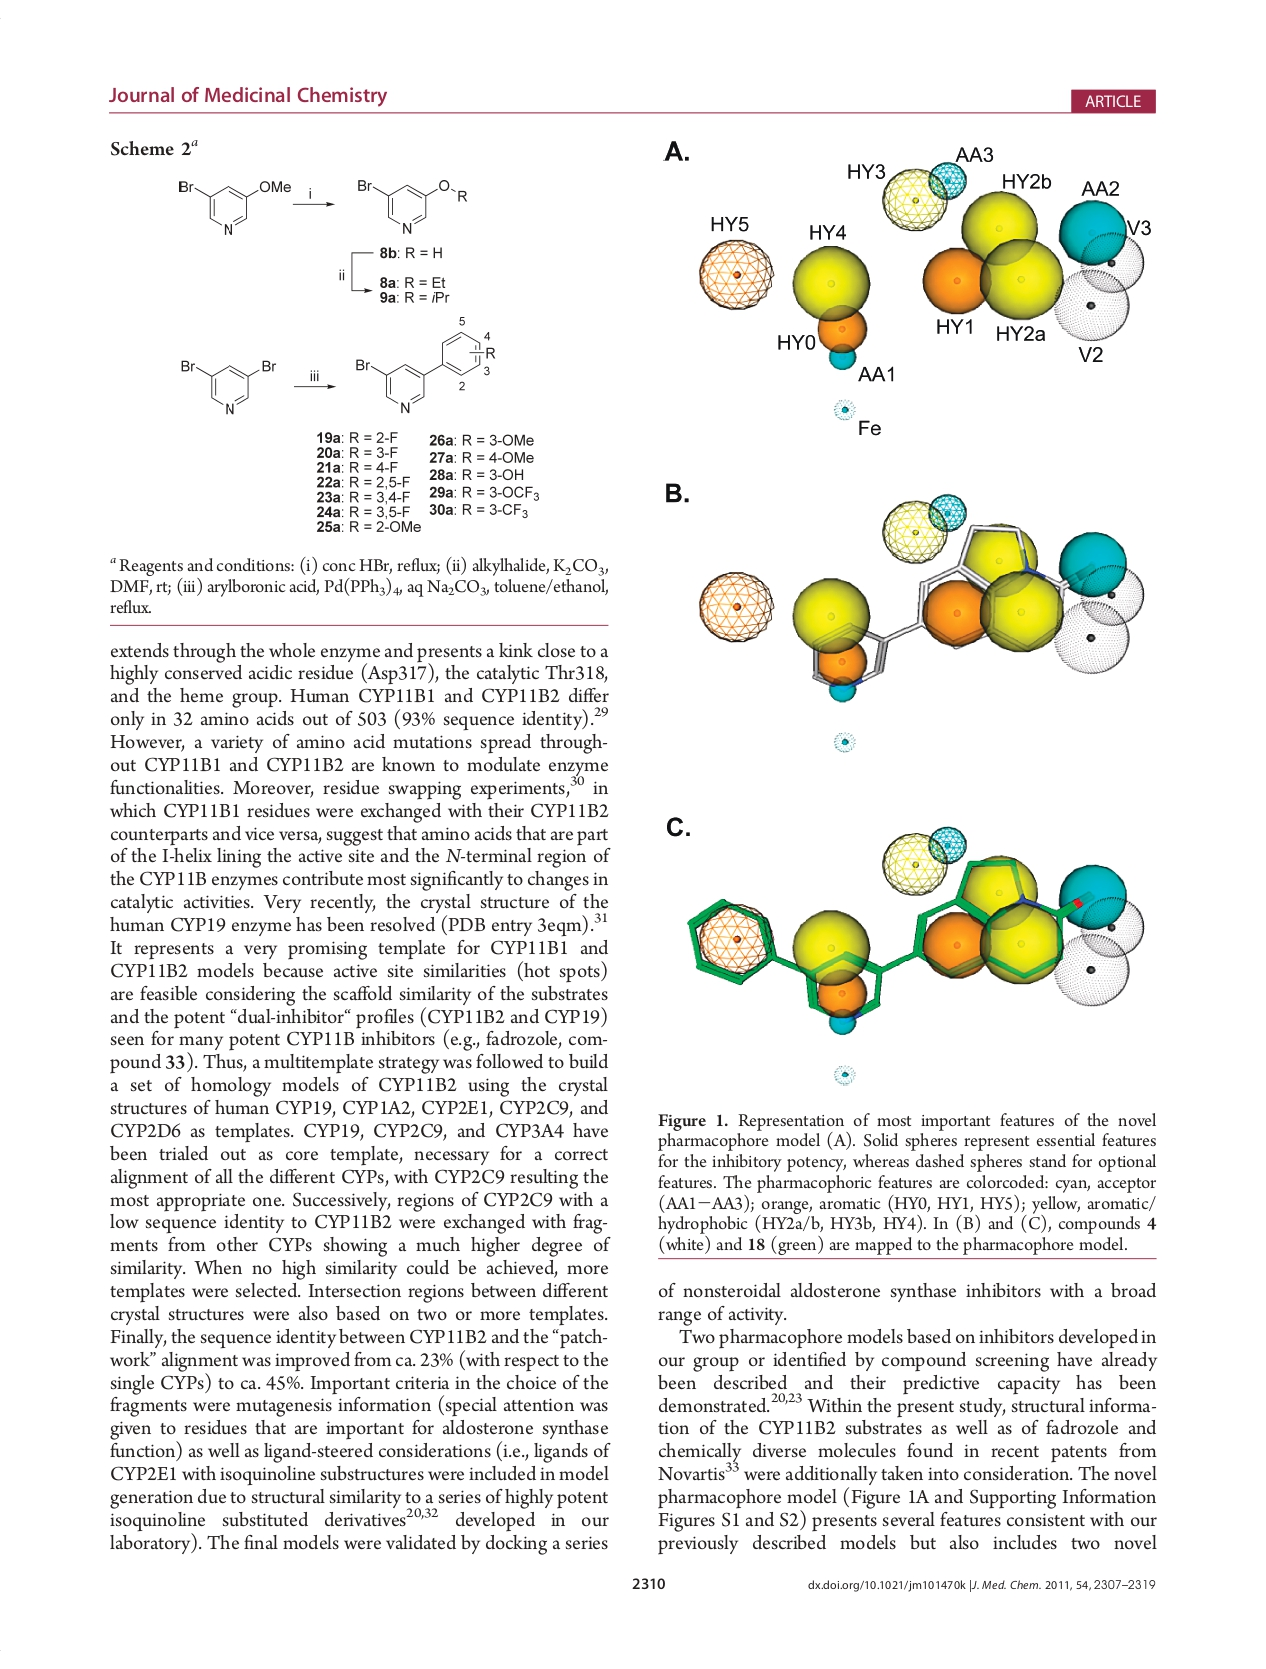exist_molecular: (352, 328, 499, 414), (172, 164, 293, 235), (352, 170, 468, 239), (180, 343, 278, 419)
